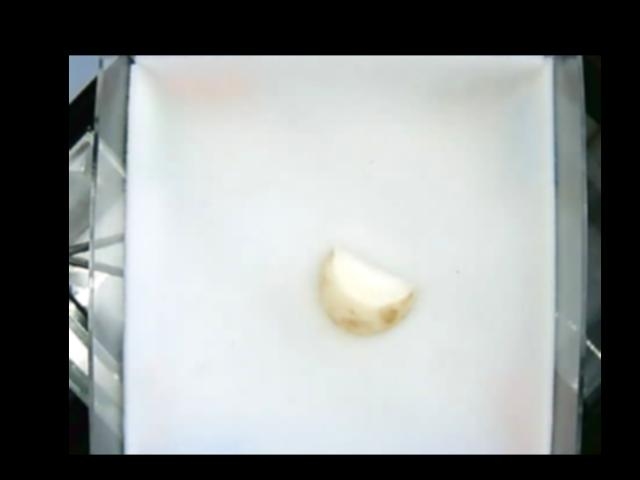Mooli: (319, 242, 416, 334)
